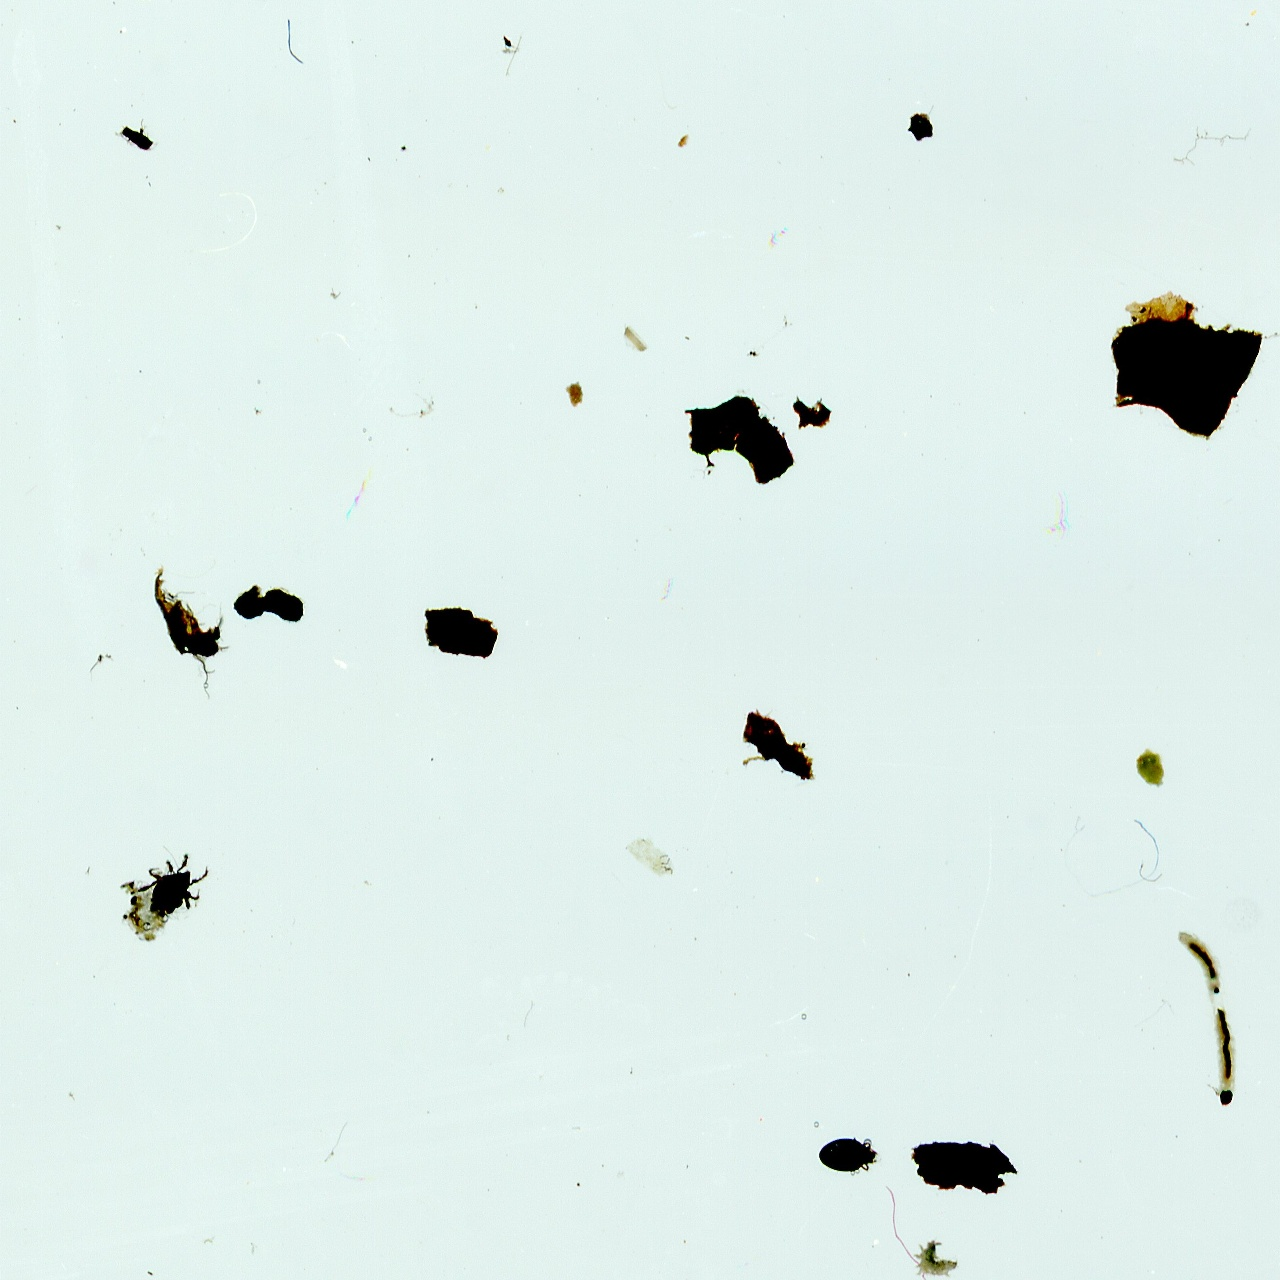arthropod: (1170, 917, 1255, 1115), (144, 851, 213, 921), (816, 1135, 879, 1177), (910, 1238, 960, 1280)
